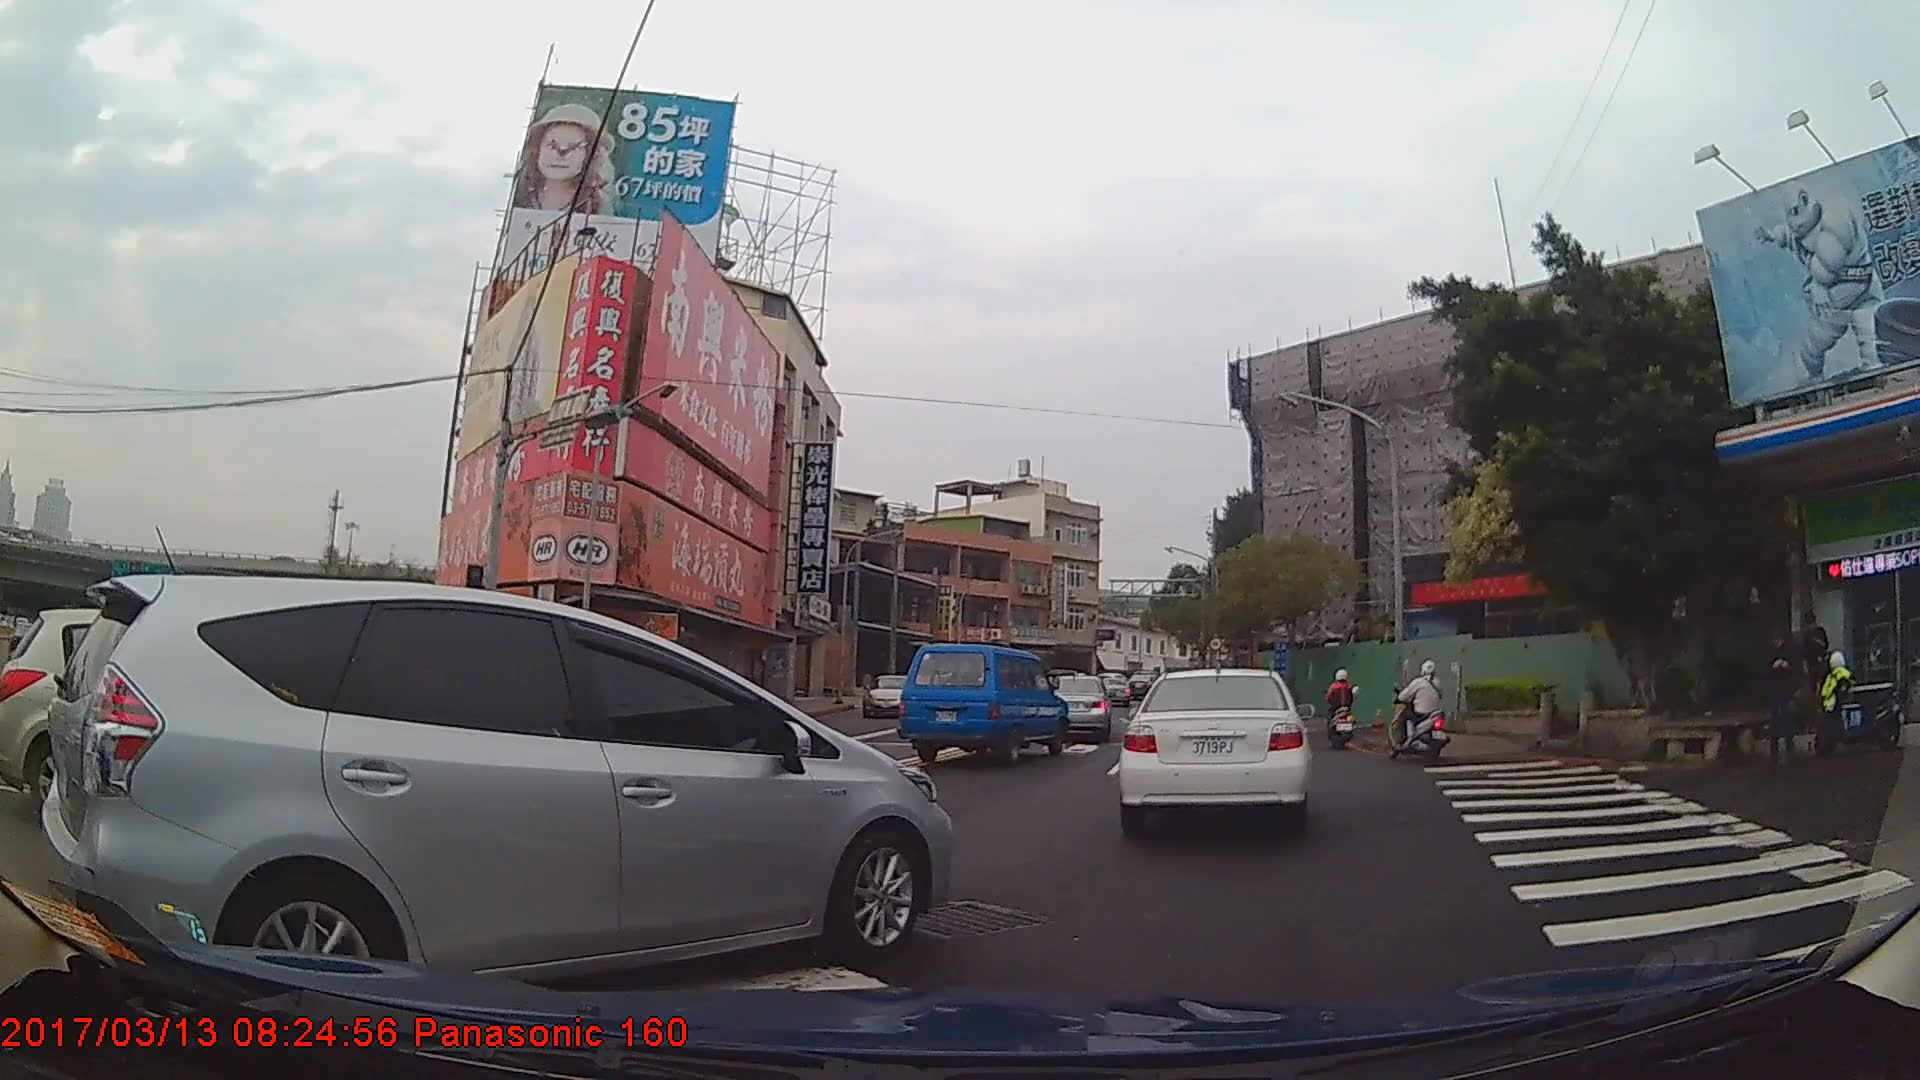pedestrian: (1761, 634, 1806, 759), (1791, 611, 1828, 720)
rider: (1386, 659, 1450, 757), (1325, 667, 1359, 747)
vehicle: (39, 571, 960, 1008), (1116, 668, 1310, 837), (895, 642, 1068, 763), (1040, 673, 1113, 741), (861, 673, 921, 722)
